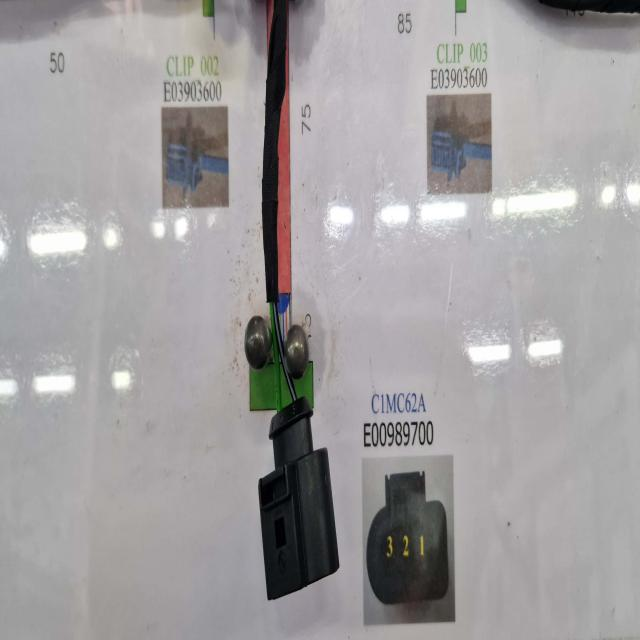Connector: (257, 399, 339, 606)
Gape: (265, 288, 297, 407)
MHEV_N11_Cable: (263, 0, 292, 334)
